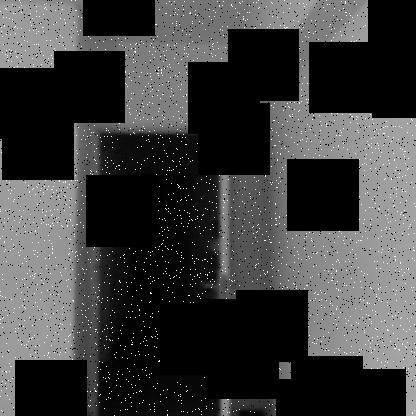Porte: (89, 102, 237, 416)
